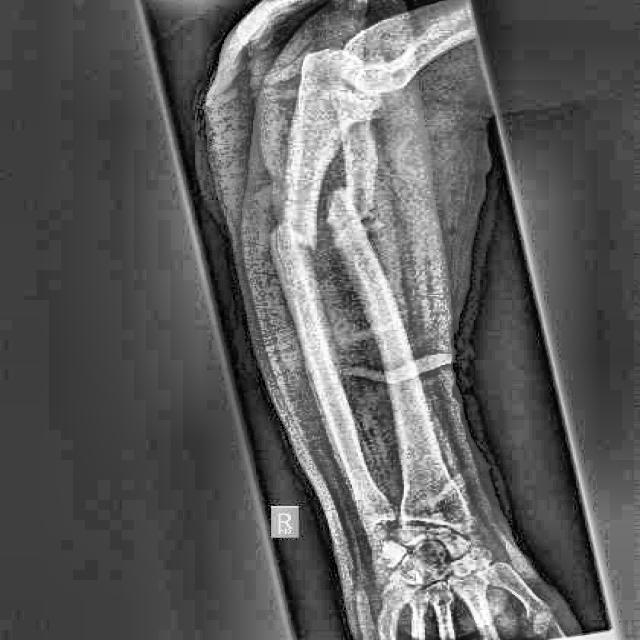forearm fracture: (302, 159, 407, 268), (251, 203, 338, 279)
